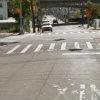Crosswalk: (10, 38, 100, 71)
